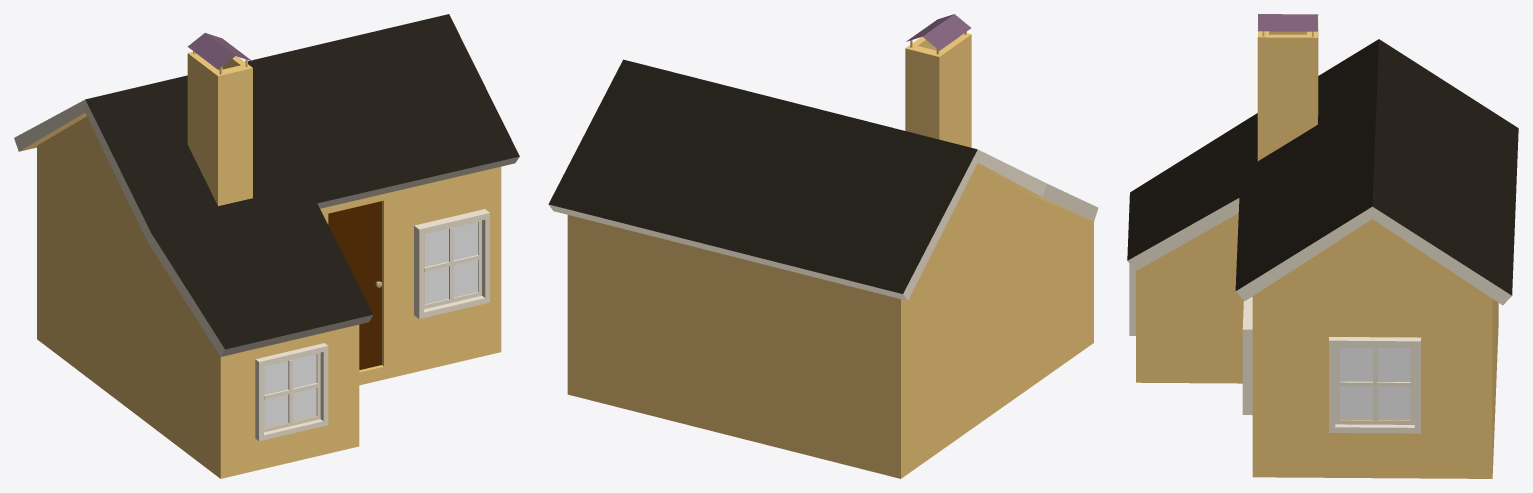
The model's file is small3.glb.
3 views of the same model, side by side, from view 1: azimuth 30°, elevation 25°; view 2: azimuth 150°, elevation 25°; view 3: azimuth 270°, elevation 25° (orthographic). The views are drawn at different scales.
Parts seen in each view (by area): view 1: Residential 7.006; view 2: Residential 7.006; view 3: Residential 7.006.
Part boxes in pixels (x1,y1,x2,y2): Residential 7.006: (14,14,519,478); Residential 7.006: (548,14,1098,478); Residential 7.006: (1127,14,1518,478).
Bounding box in the file's own units: 7.53 × 7.07 × 7.35.
Materials: 1 (1 with a texture image).
